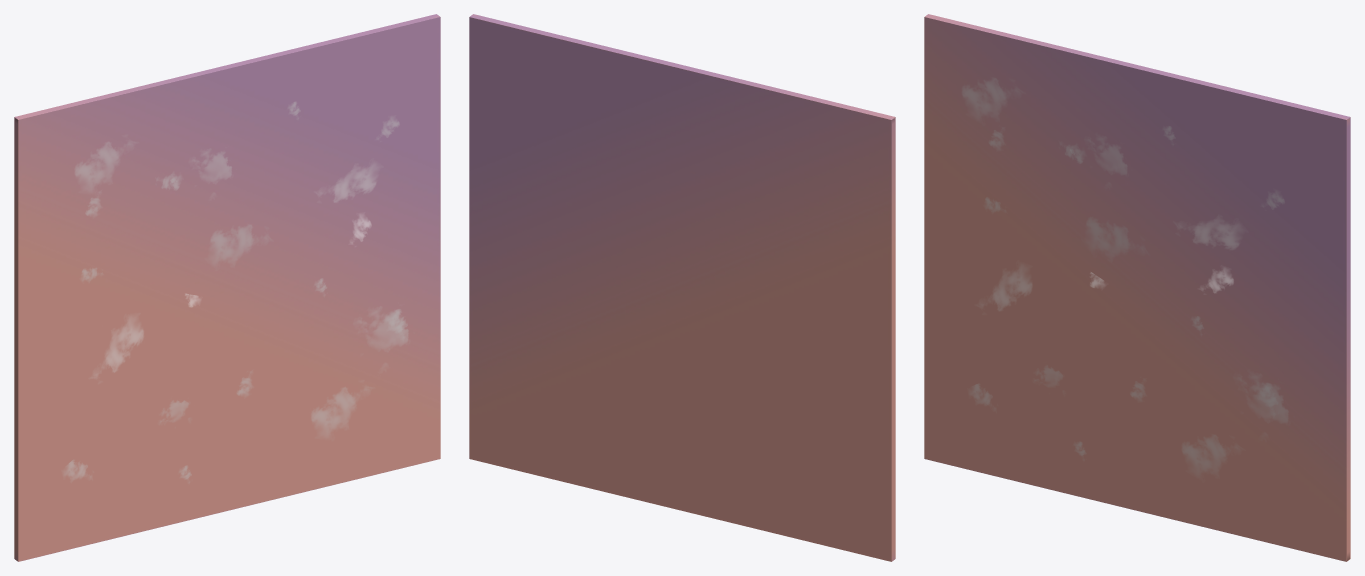
Rendered from sunsetsky1.glb.
3 views of the same model, side by side, from view 1: azimuth 30°, elevation 25°; view 2: azimuth 150°, elevation 25°; view 3: azimuth 330°, elevation 25° (orthographic).
Parts seen in each view (by area): view 1: Cube.001, cloud_04_cloud_00_0.004, cloud_04_cloud_00_0.001, cloud_04_cloud_00_0.003, cloud_06_Cloud_01_0.001, cloud_02_cloud_00_0.003, cloud_02_cloud_00_0.002, cloud_06_Cloud_01_0.002; view 2: Cube.001; view 3: Cube.001, cloud_04_cloud_00_0.001, cloud_04_cloud_00_0.004, cloud_04_cloud_00_0.003, cloud_06_Cloud_01_0.001, cloud_02_cloud_00_0.002, cloud_02_cloud_00_0.003, cloud_06_Cloud_01_0.002.
Boxes of the visible parts, x1,y1,x2,y2 form: Cube.001: [14, 14, 440, 561]; cloud_04_cloud_00_0.004: [75, 141, 132, 191]; cloud_04_cloud_00_0.001: [311, 387, 368, 436]; cloud_04_cloud_00_0.003: [210, 225, 268, 264]; cloud_06_Cloud_01_0.001: [357, 307, 408, 364]; cloud_02_cloud_00_0.003: [94, 316, 143, 377]; cloud_02_cloud_00_0.002: [318, 163, 377, 202]; cloud_06_Cloud_01_0.002: [192, 149, 231, 193]; Cube.001: [469, 14, 895, 561]; Cube.001: [924, 14, 1350, 561]; cloud_04_cloud_00_0.001: [1182, 435, 1239, 476]; cloud_04_cloud_00_0.004: [962, 78, 1019, 119]; cloud_04_cloud_00_0.003: [1086, 217, 1145, 258]; cloud_06_Cloud_01_0.001: [1237, 374, 1288, 434]; cloud_02_cloud_00_0.002: [1177, 218, 1241, 249]; cloud_02_cloud_00_0.003: [979, 265, 1032, 310]; cloud_06_Cloud_01_0.002: [1088, 137, 1127, 183].
Bounding box in the file's own units: 99.85 × 99.85 × 13.95.
Materials: 23 (17 with a texture image).
